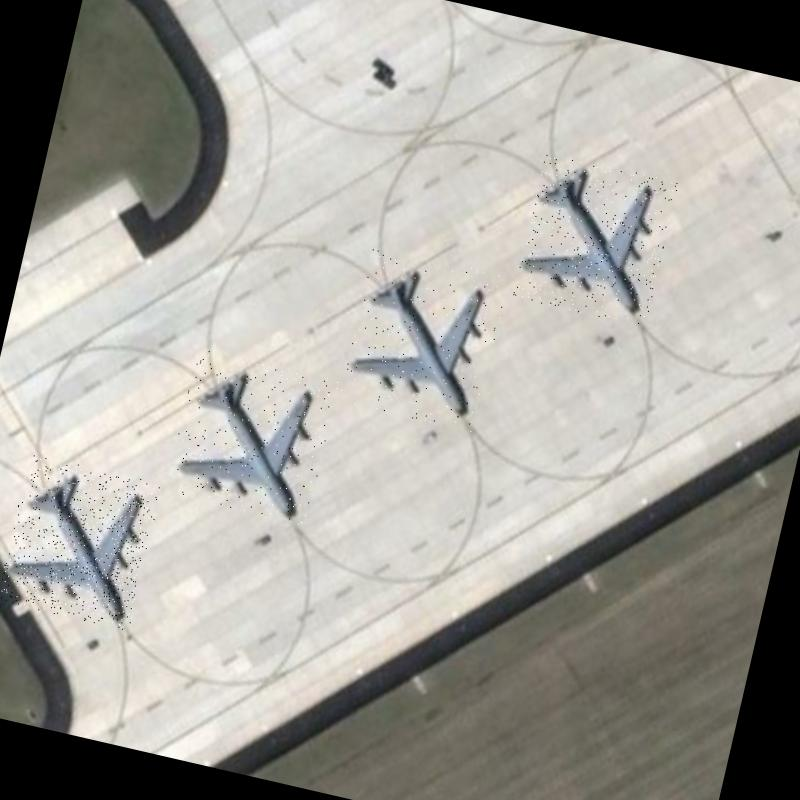A14: (337, 245, 510, 433), (164, 348, 339, 527), (512, 152, 678, 328), (0, 453, 162, 631)
